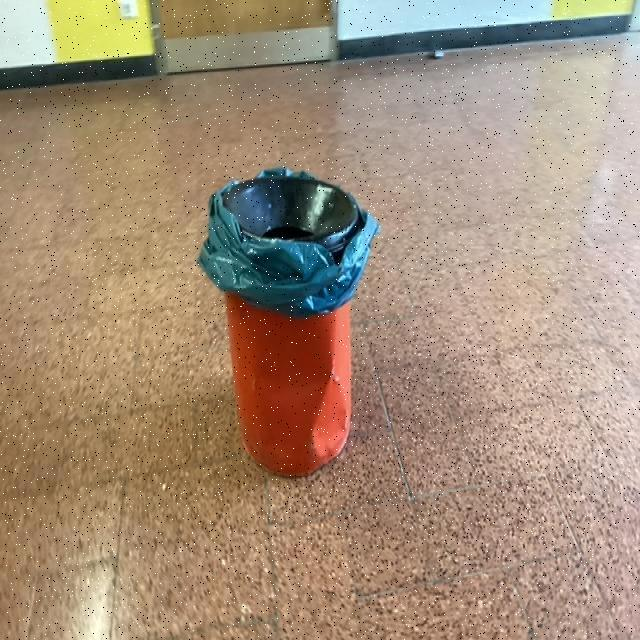garbage container: (163, 122, 390, 537)
